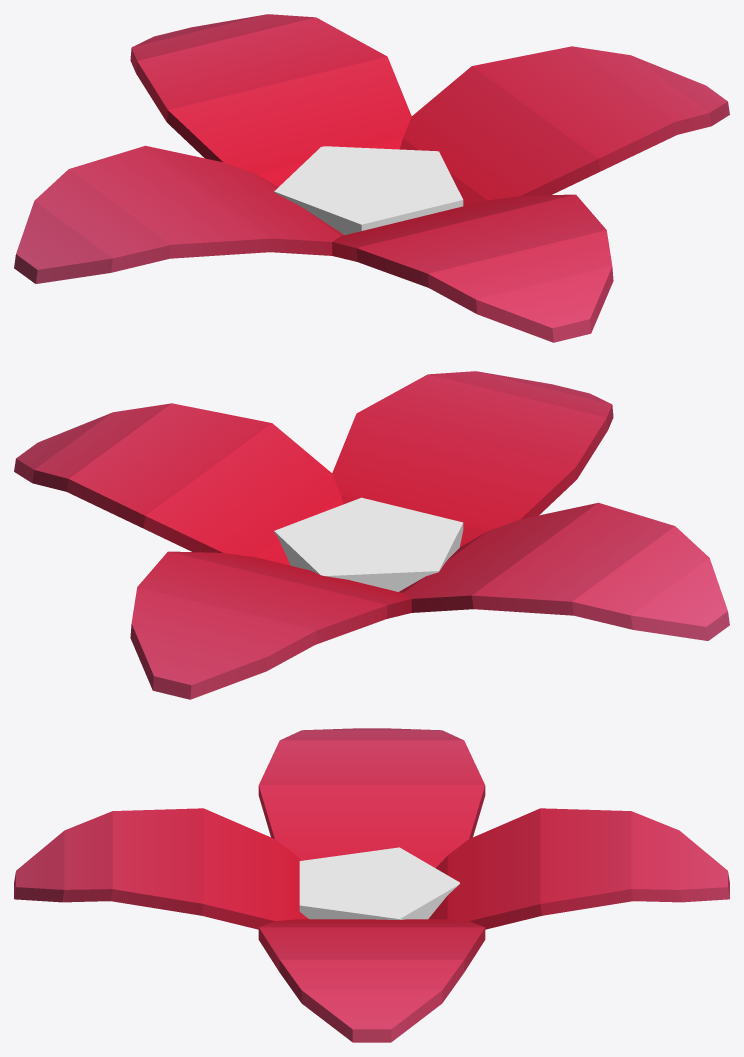
File: Flower_10.fbx
The picture shows the model from 3 angles, top to bottom: view 1: azimuth 30°, elevation 25°; view 2: azimuth 150°, elevation 25°; view 3: azimuth 270°, elevation 25°; orthographic projection. The views are drawn at different scales.
Parts seen in each view (by area): view 1: Flower_10; view 2: Flower_10; view 3: Flower_10.
Boxes of the visible parts, <box> form: Flower_10: <box>14,14,729,342</box>; Flower_10: <box>14,371,729,699</box>; Flower_10: <box>14,728,729,1042</box>.
Size of the model in its own units: 0.2997 by 0.0355 by 0.2997.
